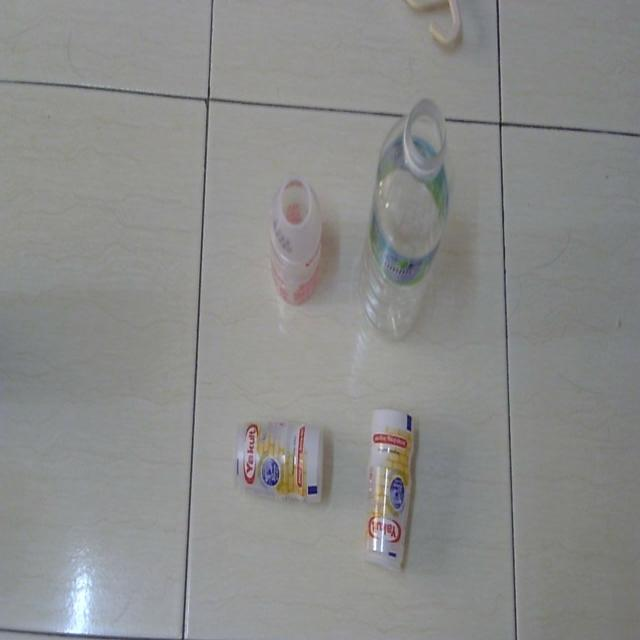plastic_laydown_0rotation: (231, 410, 330, 510)
plastic_laydown_90rotation: (361, 402, 420, 576)
plastic_standrotation: (361, 92, 458, 339), (267, 164, 328, 306)
